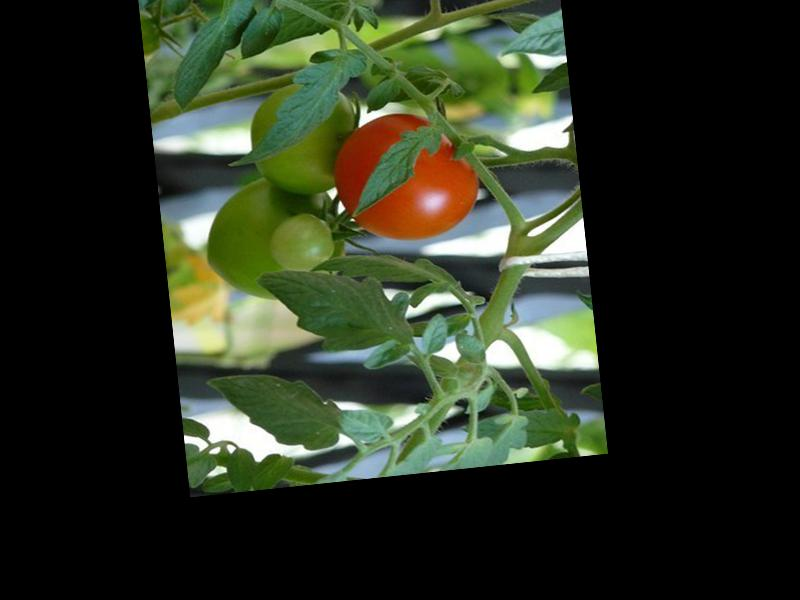Tomato: (330, 106, 484, 248)
